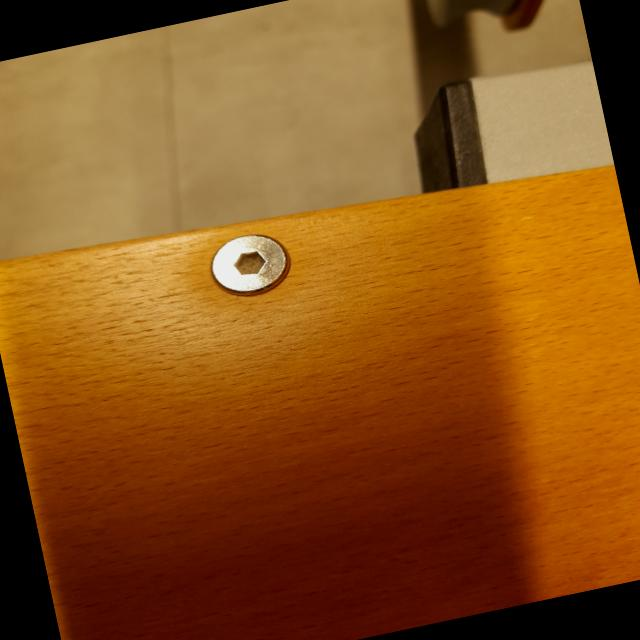Hex Socket Allen: (205, 225, 298, 302)
